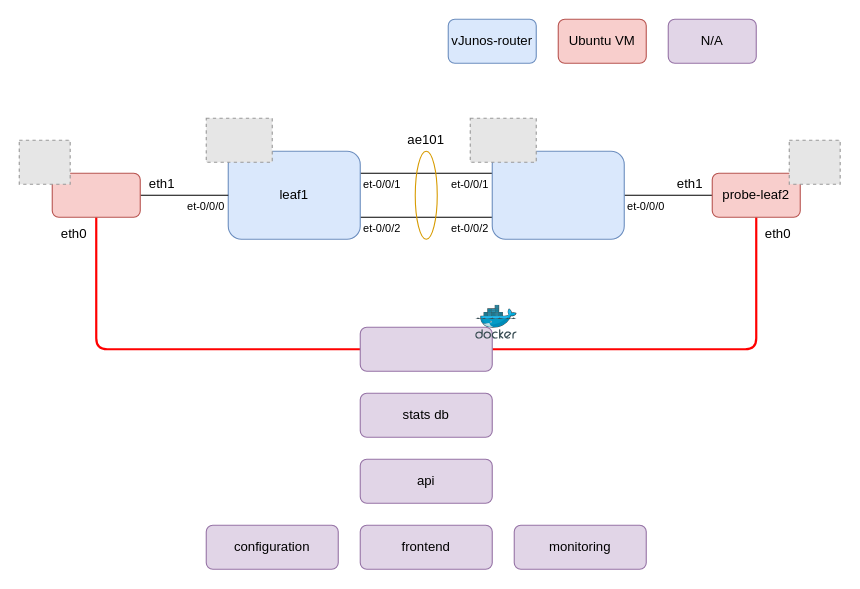
This 860x589 diagram has some shape labels left out. Grey dashed boxes stand in for pictures. The centre of each missing label's shape, as x and y in pixels:
leaf2: point 557,194
orchestrator: point 425,348
probe-leaf1: point 95,194
